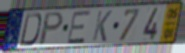4: (141, 7, 159, 42)
7: (118, 7, 141, 43)
D: (18, 12, 43, 48)
E: (66, 9, 92, 45)
K: (91, 10, 113, 43)
P: (37, 11, 65, 48)
